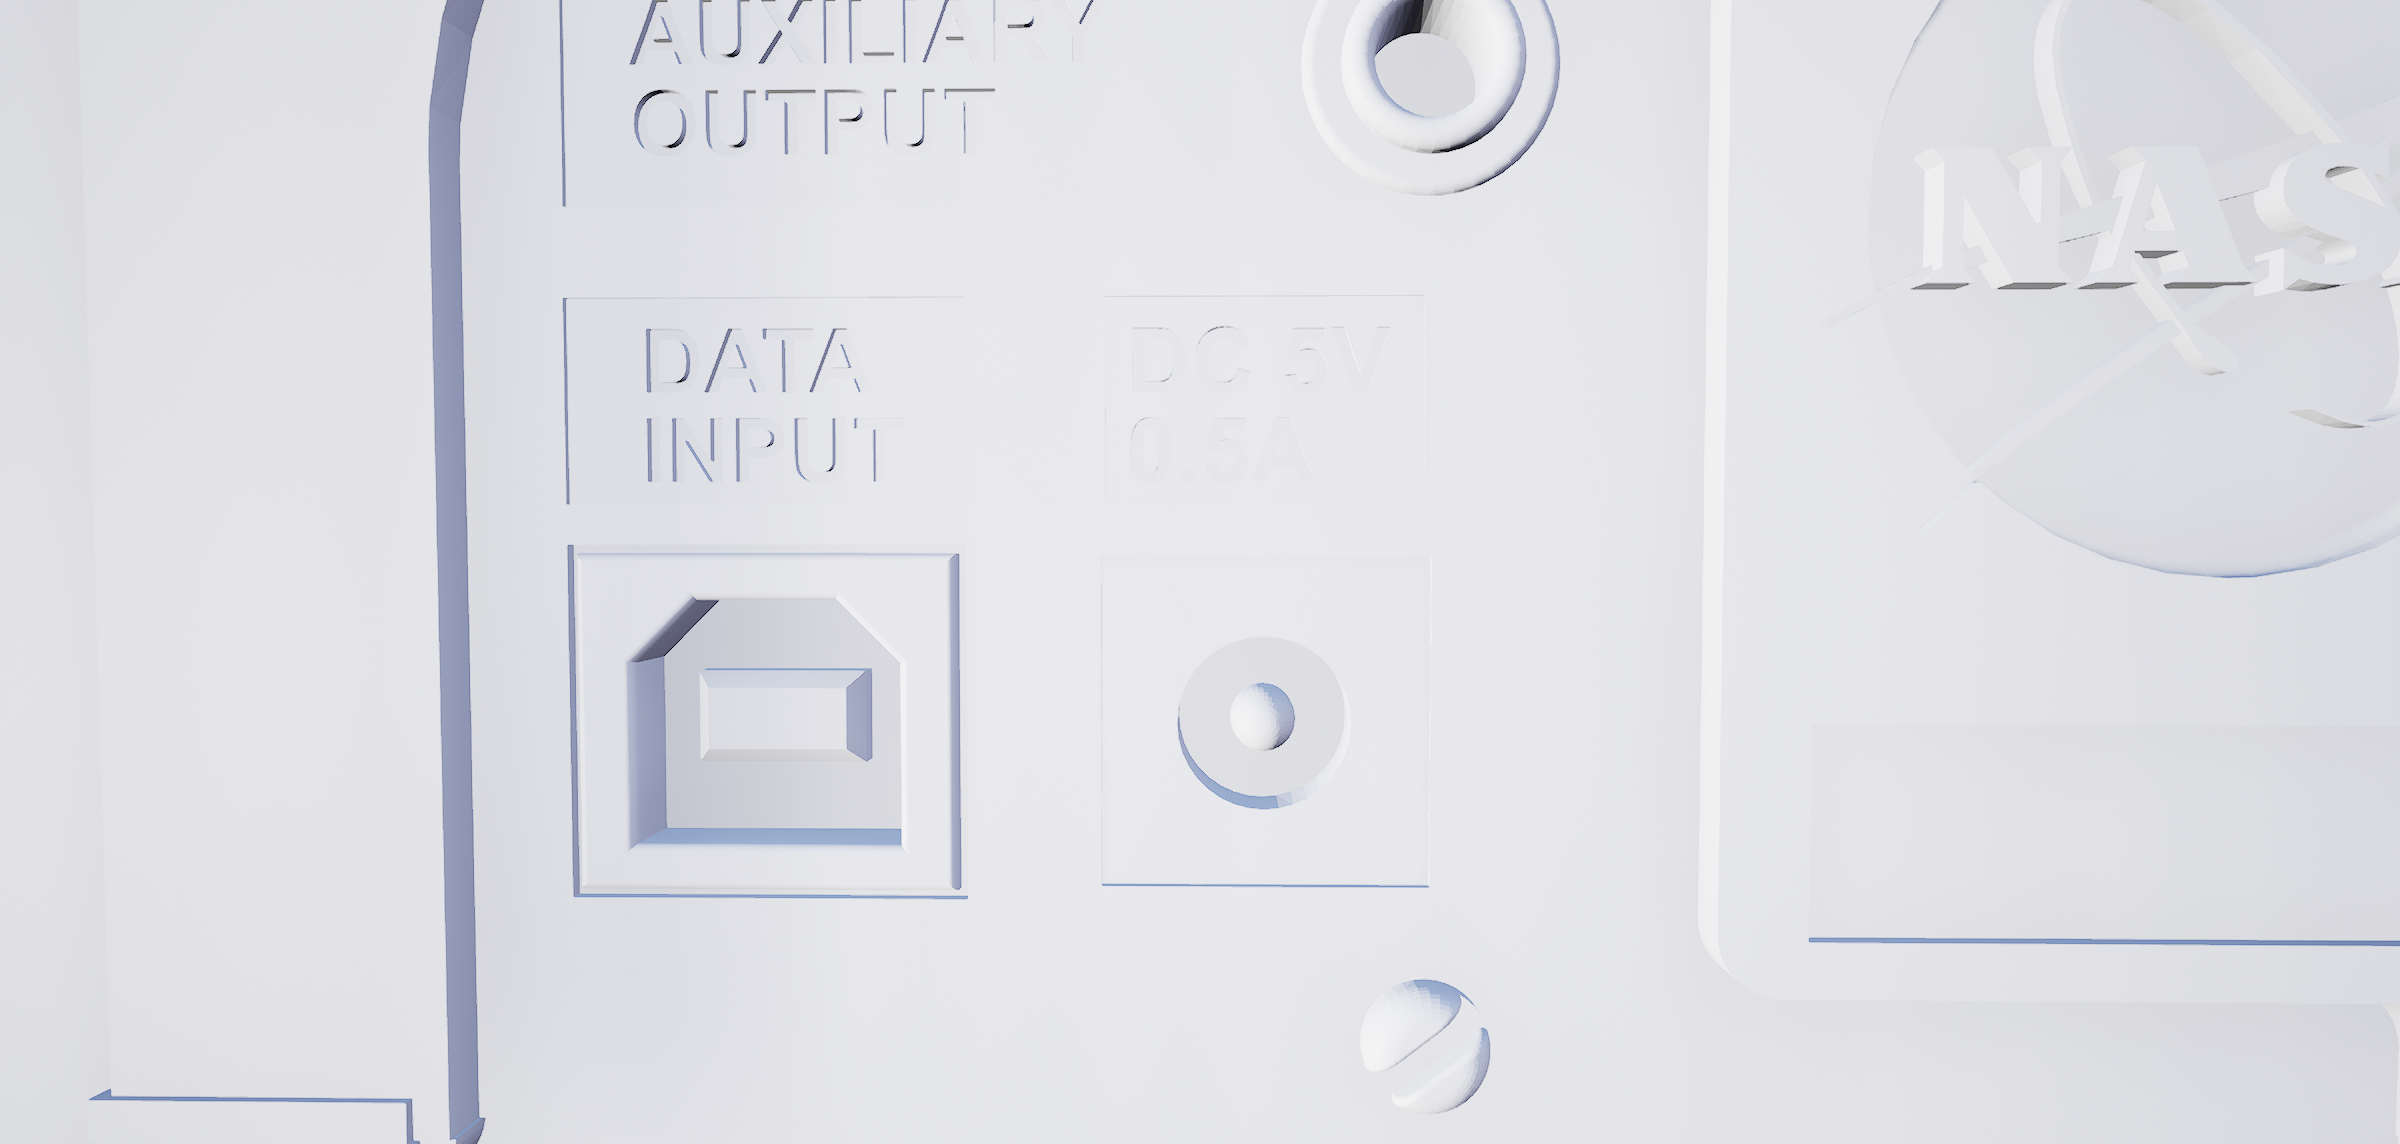aux: (1287, 2, 1589, 202)
dc: (1162, 623, 1374, 832)
usb: (618, 588, 914, 871)
